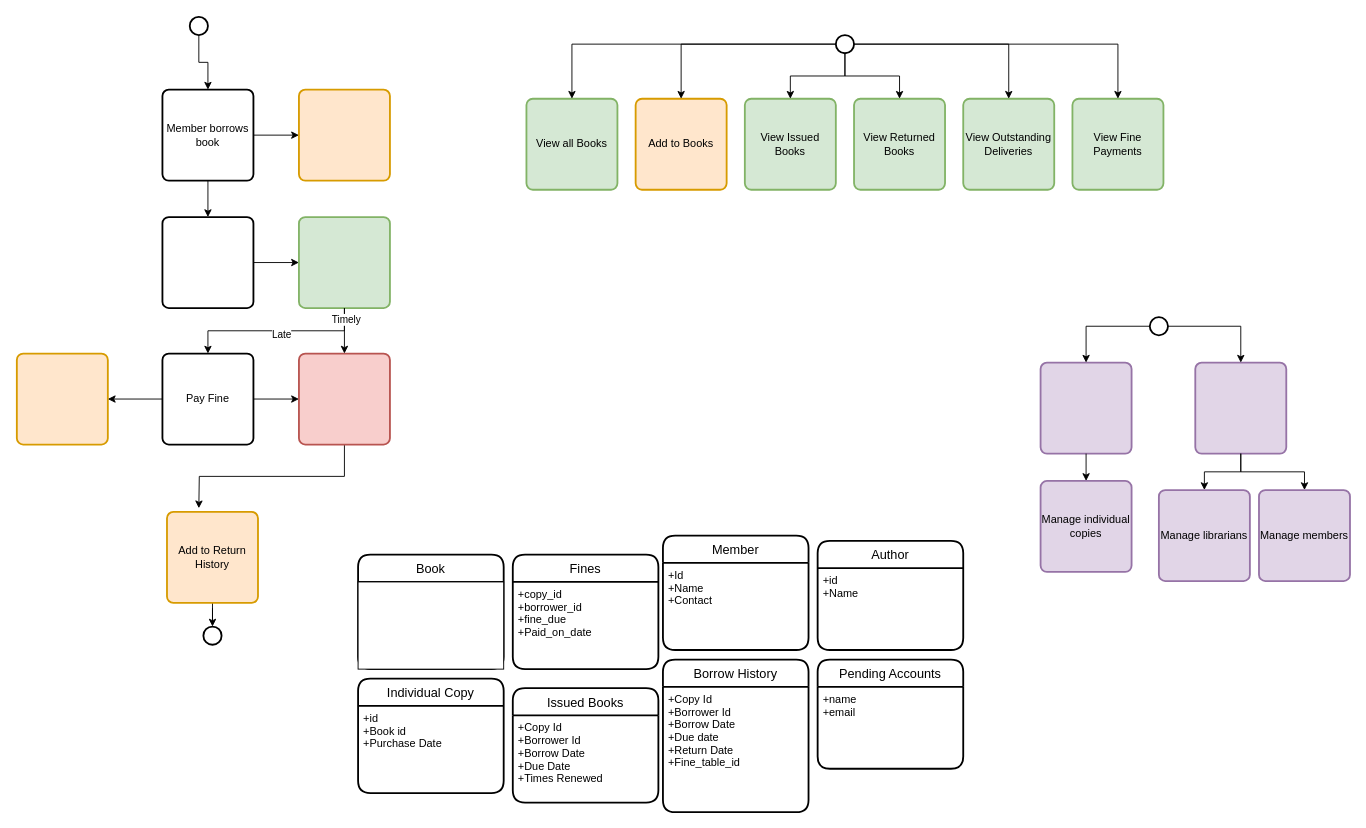
Image size: 1366x828. Some labels were removed from this diagram. The centre of each missing label's shape, as x and y in pixels:
"+ISBN number +Number of authors +Title +Number of copies +Price +Genre" belongs at (430,625).
"Added to Issued books" belongs at (344,134).
"Book returned" belongs at (207,262).
"Check Due Date" belongs at (344,262).
"Log fine in Fines" belongs at (61,398).
"Manage accounts" belongs at (1240,407).
"Manage books" belongs at (1085,407).
"Remove from Issued Books" belongs at (344,398).
